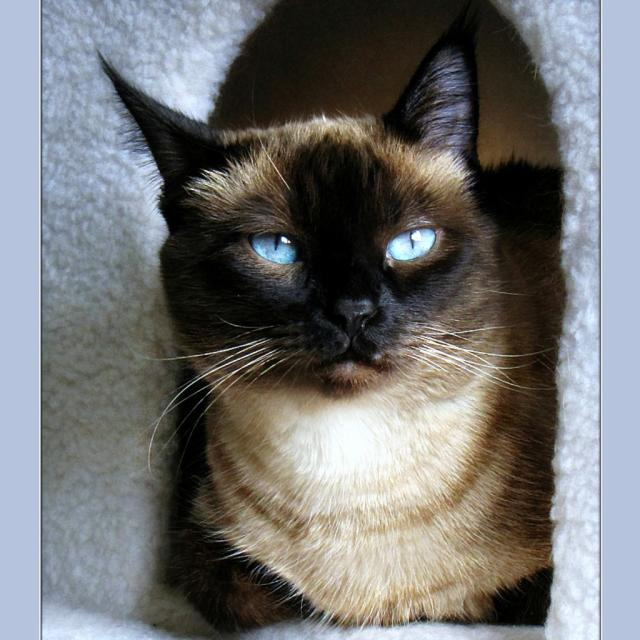Cat: (87, 50, 564, 630)
